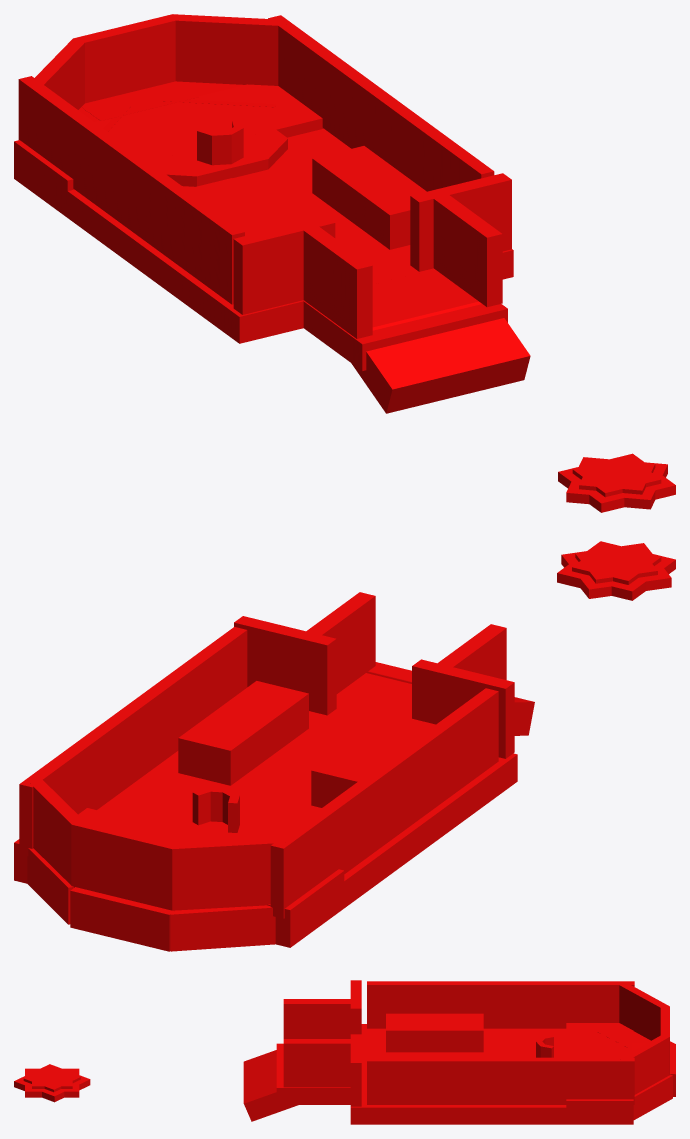
3 renders of one model, top to bottom at view 1: azimuth 30°, elevation 25°; view 2: azimuth 150°, elevation 25°; view 3: azimuth 270°, elevation 25°, orthographic. The views are drawn at different scales.
Parts seen in each view (by area): view 1: Cube.012, Cube.006, Cube.011, Cube.017, Cube.003, Cube.005, Cube.001, Cube.013, Cube.015, Cube.024, Cube.027, Cube.026 (+11 smaller); view 2: Cube.012, Cube.006, Cube.011, Cube.001, Cube.015, Cube.014, Cube.025, Cube.017, Cube.024, Cube, Cube.016, Cube.019 (+12 smaller); view 3: Cube.011, Cube.012, Cube.006, Cube.017, Cube, Cube.026, Cube.027, Cube.003, Cube.014, Cube.005, Cube.013, Cube.018 (+10 smaller).
Part boxes in pixels (x1,y1,x2,y2): Cube.012: (18, 76, 244, 304); Cube.006: (67, 128, 513, 343); Cube.011: (268, 15, 494, 191); Cube.017: (14, 84, 323, 217); Cube.003: (351, 301, 530, 413); Cube.005: (303, 269, 507, 370); Cube.001: (312, 146, 426, 249); Cube.013: (171, 14, 287, 85); Cube.015: (73, 14, 178, 103); Cube.024: (233, 216, 335, 314); Cube.027: (303, 226, 372, 338); Cube.026: (433, 195, 502, 307); Cube.012: (270, 688, 498, 918); Cube.006: (97, 710, 517, 907); Cube.011: (19, 627, 247, 856); Cube.001: (178, 681, 308, 785); Cube.015: (71, 819, 174, 910); Cube.014: (171, 836, 287, 910); Cube.025: (234, 616, 336, 715); Cube.017: (14, 808, 344, 947); Cube.024: (412, 659, 514, 758); Cube: (311, 713, 435, 807); Cube.016: (70, 887, 174, 951); Cube.019: (169, 905, 275, 951); Cube.011: (367, 1057, 634, 1104); Cube.012: (367, 981, 634, 1028); Cube.006: (350, 1024, 566, 1124); Cube.017: (566, 1023, 633, 1124); Cube: (386, 1013, 483, 1052); Cube.026: (283, 1039, 350, 1087); Cube.027: (283, 999, 350, 1038); Cube.003: (243, 1050, 298, 1121); Cube.014: (618, 982, 668, 1040); Cube.005: (276, 1043, 350, 1104); Cube.013: (619, 1035, 669, 1094); Cube.018: (633, 1074, 672, 1119).
Size of what is drawn, in the model's own units: 8.12 by 3.58 by 27.09.
